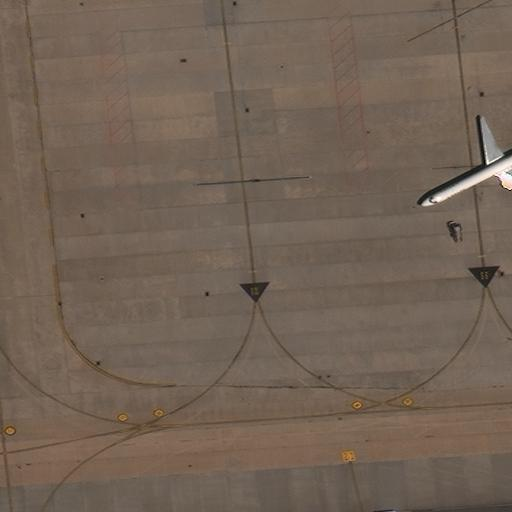Medium Civil Transport: (421, 120, 512, 205)
